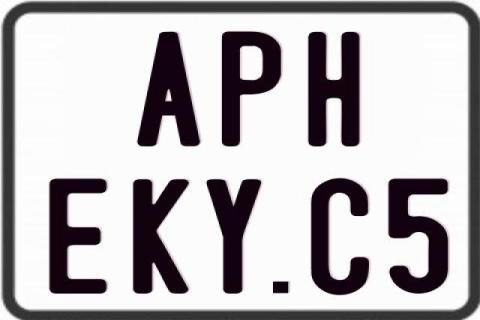0: (385, 179, 449, 295)
A: (136, 32, 201, 150)
C: (311, 176, 370, 297)
E: (49, 178, 113, 298)
H: (306, 31, 359, 149)
K: (130, 179, 186, 297)
P: (219, 29, 284, 145)
Y: (206, 177, 260, 291)
